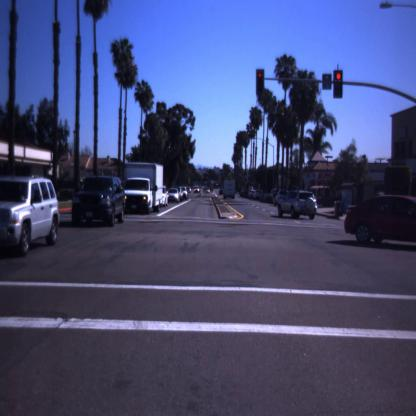trafficlight: (330, 67, 349, 106), (250, 62, 268, 100)
